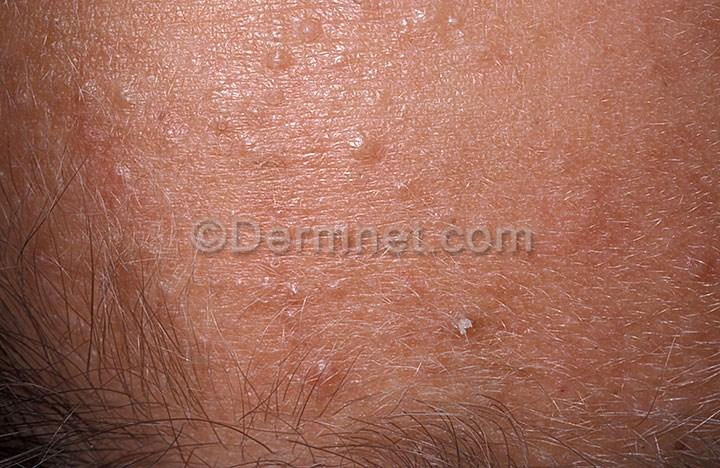Acne: (322, 119, 400, 186), (234, 43, 304, 89), (663, 231, 718, 285), (73, 69, 122, 129), (438, 1, 490, 52)
